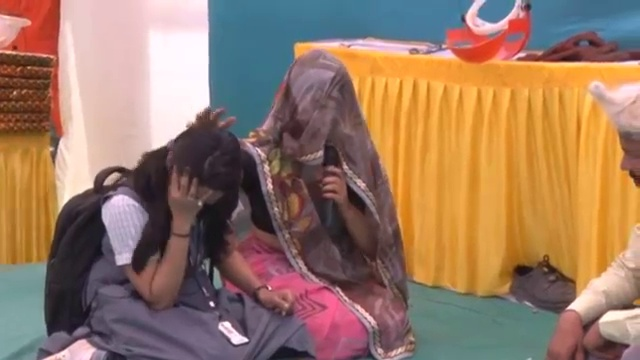helmet: (1, 14, 35, 51)
helmet_off: (156, 123, 259, 233), (585, 70, 640, 195), (284, 51, 356, 130)
person: (31, 123, 263, 359), (237, 48, 412, 358), (548, 68, 640, 360)
